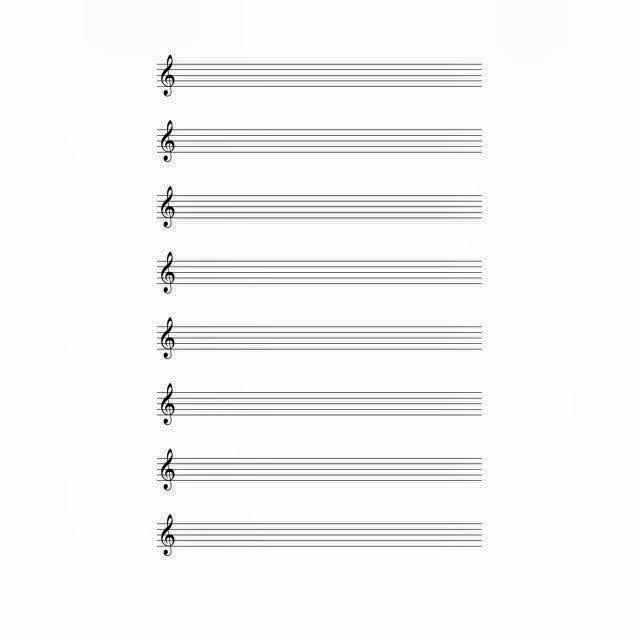Treble-clef: (160, 382, 177, 426), (160, 184, 176, 230), (160, 446, 176, 492), (160, 512, 176, 558), (160, 53, 176, 97), (160, 250, 176, 294), (160, 316, 176, 360), (160, 118, 174, 164)
